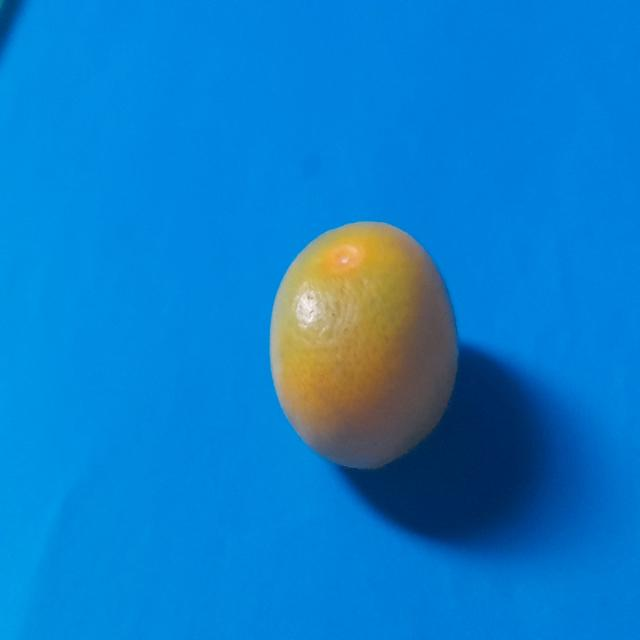greening: (266, 212, 464, 475)
